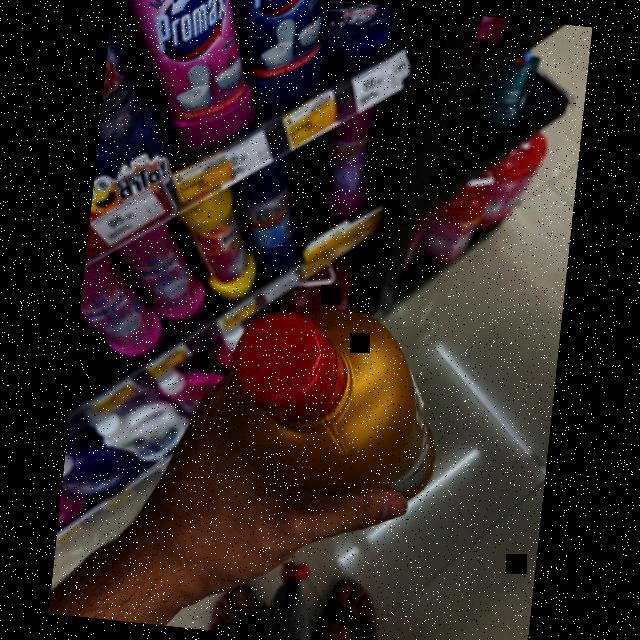chemical_plastic_bottle: (200, 282, 460, 528)
